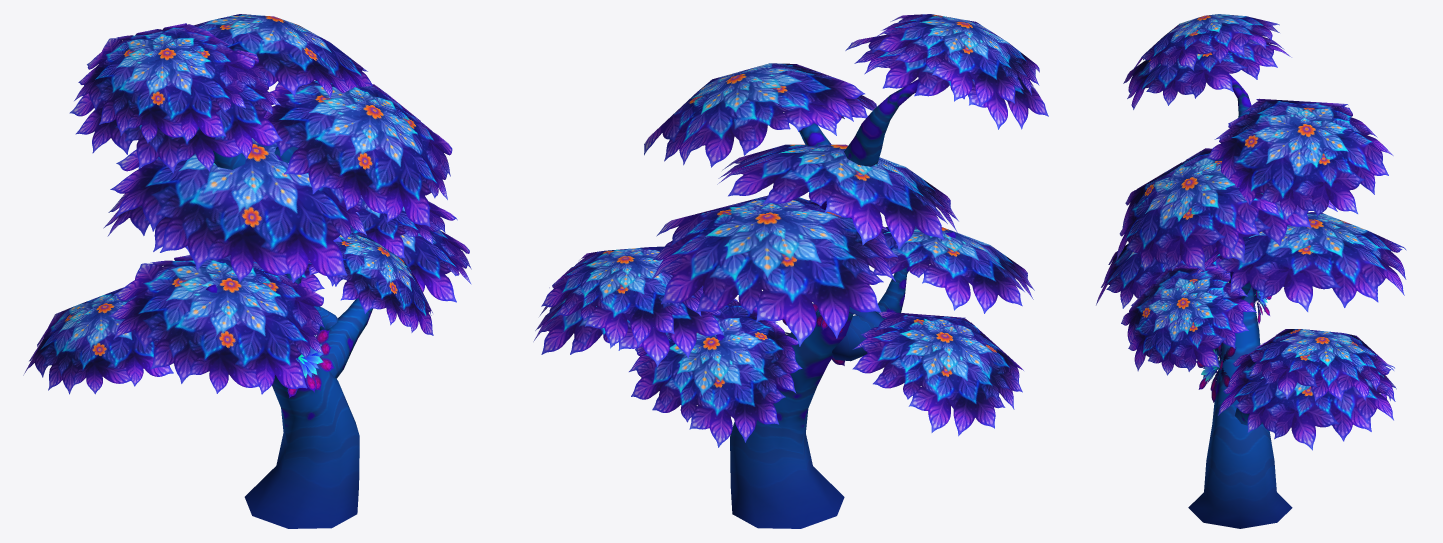
Rendered from Blue_Tree_10a.FBX.
The picture shows the model from 3 angles, left to right: view 1: azimuth 30°, elevation 25°; view 2: azimuth 150°, elevation 25°; view 3: azimuth 270°, elevation 25°; orthographic projection. The views are drawn at different scales.
Parts seen in each view (by area): view 1: Blue_Tree_10a; view 2: Blue_Tree_10a; view 3: Blue_Tree_10a.
Part boxes in pixels (x1,y1,x2,y2): Blue_Tree_10a: [23, 14, 471, 528]; Blue_Tree_10a: [533, 14, 1048, 528]; Blue_Tree_10a: [1096, 14, 1406, 528].
Size of the model in its own units: 391 by 401 by 287.
